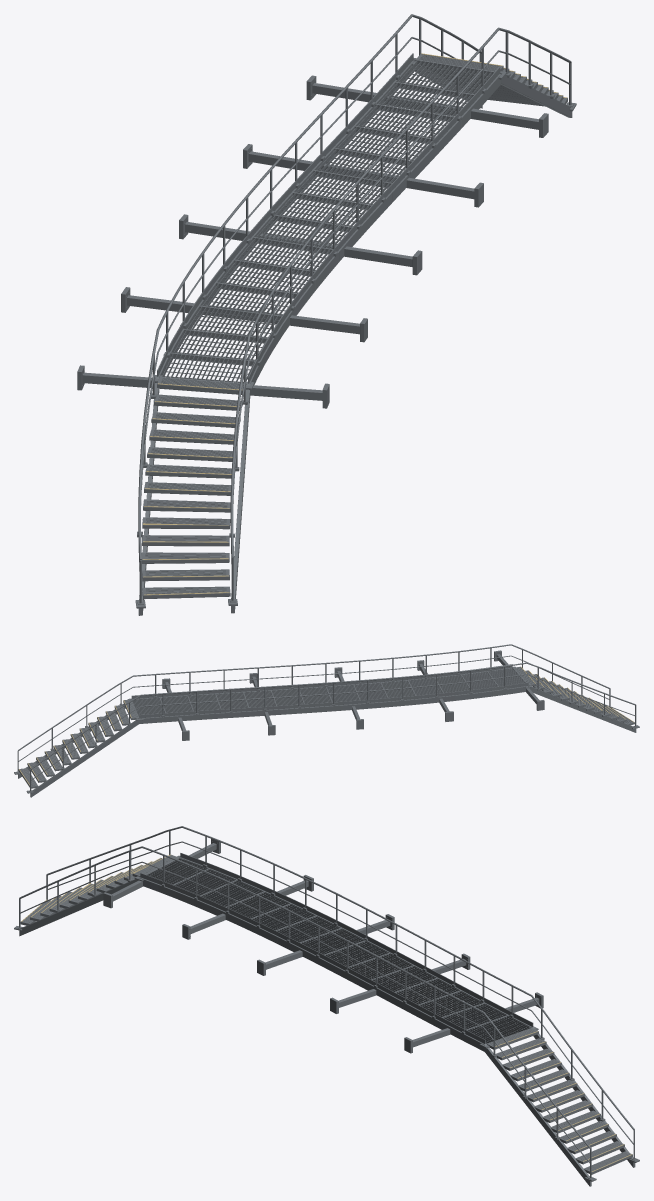
The model's file is BD_T01_UpperWalk.fbx.
3 renders of one model, top to bottom at view 1: azimuth 30°, elevation 25°; view 2: azimuth 150°, elevation 25°; view 3: azimuth 270°, elevation 25°, orthographic. The views are drawn at different scales.
Visible parts, largest first — view 1: BD_T01_UpperWalk; view 2: BD_T01_UpperWalk; view 3: BD_T01_UpperWalk.
Boxes of the visible parts, x1=… form: BD_T01_UpperWalk: x1=77, y1=14, x2=576, y2=615; BD_T01_UpperWalk: x1=14, y1=644, x2=639, y2=797; BD_T01_UpperWalk: x1=14, y1=826, x2=639, y2=1186.
Bounding box in the file's own units: 1672 × 350 × 1588.
